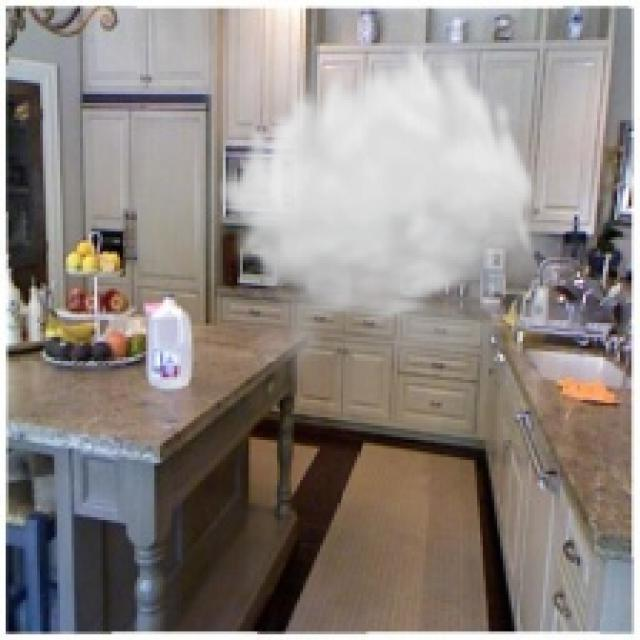Smoke: (214, 34, 606, 389)
